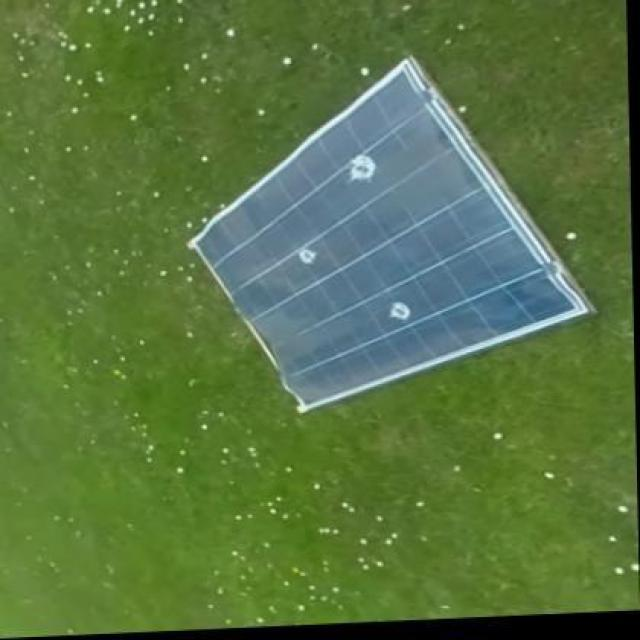soiled: (194, 53, 600, 414)
